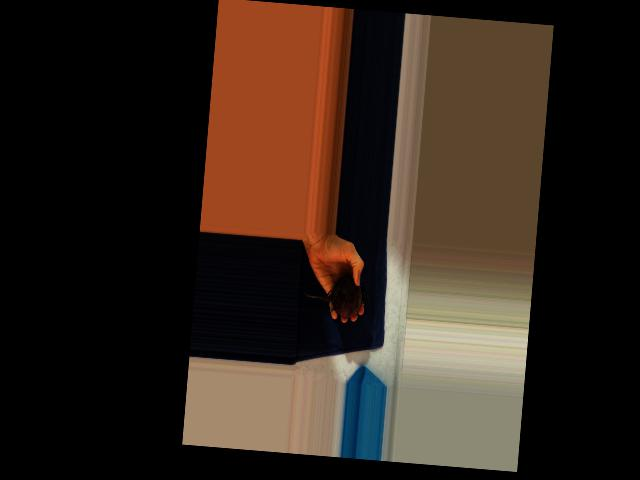beet: (301, 273, 368, 319)
